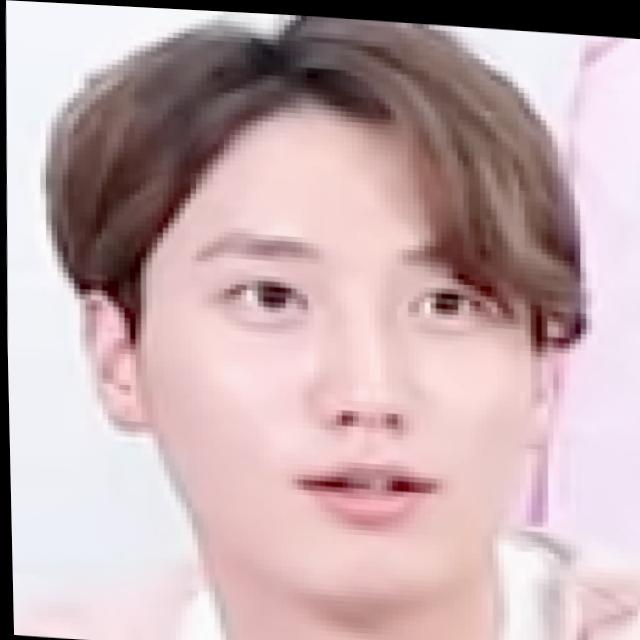face: (82, 23, 580, 629)
